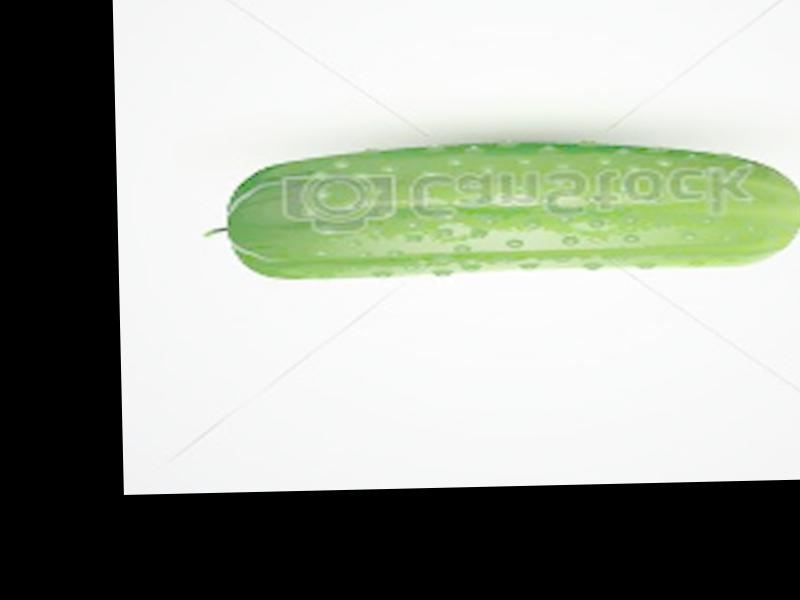Cucumber: (201, 137, 800, 283)
